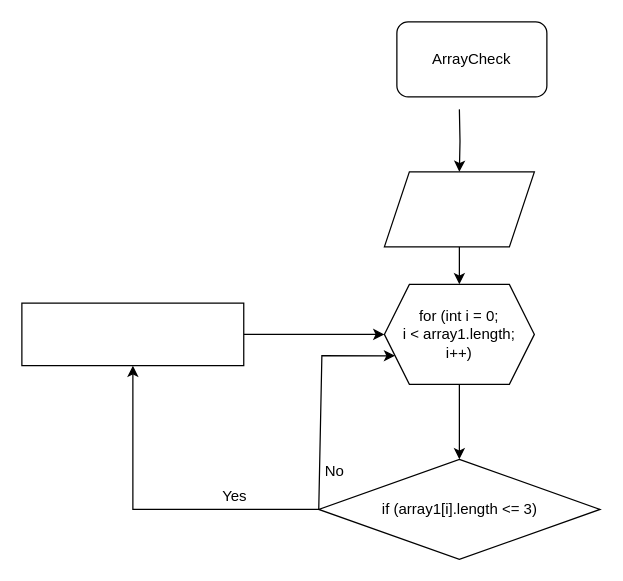
Image size: 623x581. Some labels were removed from this diagram. Each missing label, with the centre of its shape:
array2[count] = array1[i] count++;: the point at 132,334
string[] array1 string array2 int count = 0: the point at 458,209
